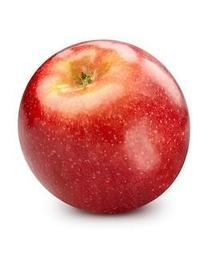apple: (17, 39, 190, 215)
